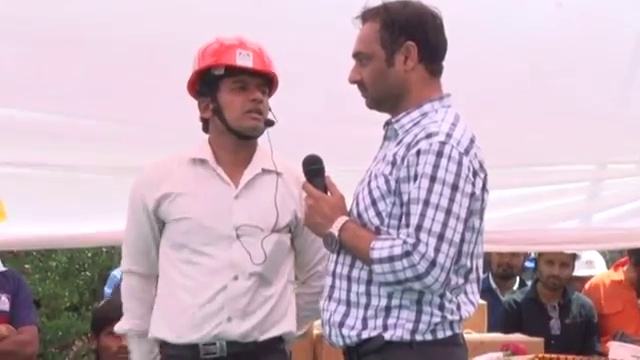helmet: (186, 38, 286, 102)
helmet_off: (348, 3, 454, 116), (533, 247, 583, 298), (89, 300, 126, 360), (488, 248, 528, 285)
helmet_on: (184, 37, 285, 164)
person: (121, 40, 338, 360), (306, 0, 490, 360), (491, 250, 601, 353), (0, 201, 46, 359), (588, 252, 640, 344)
